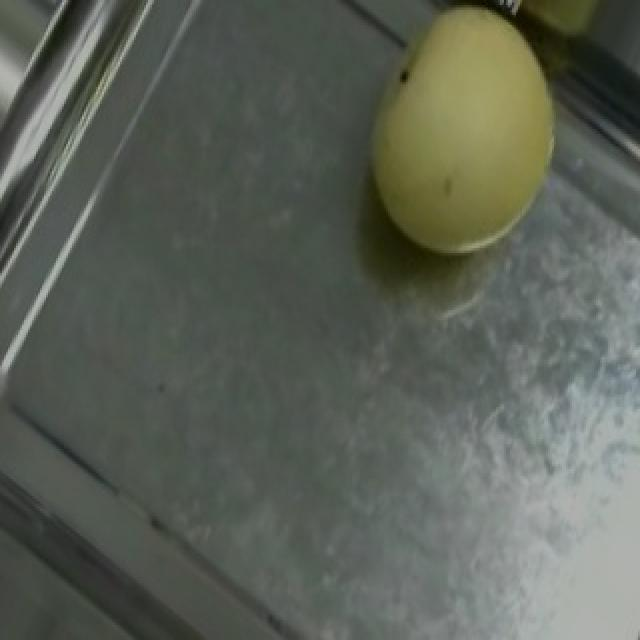Fruit: (320, 0, 594, 290)
